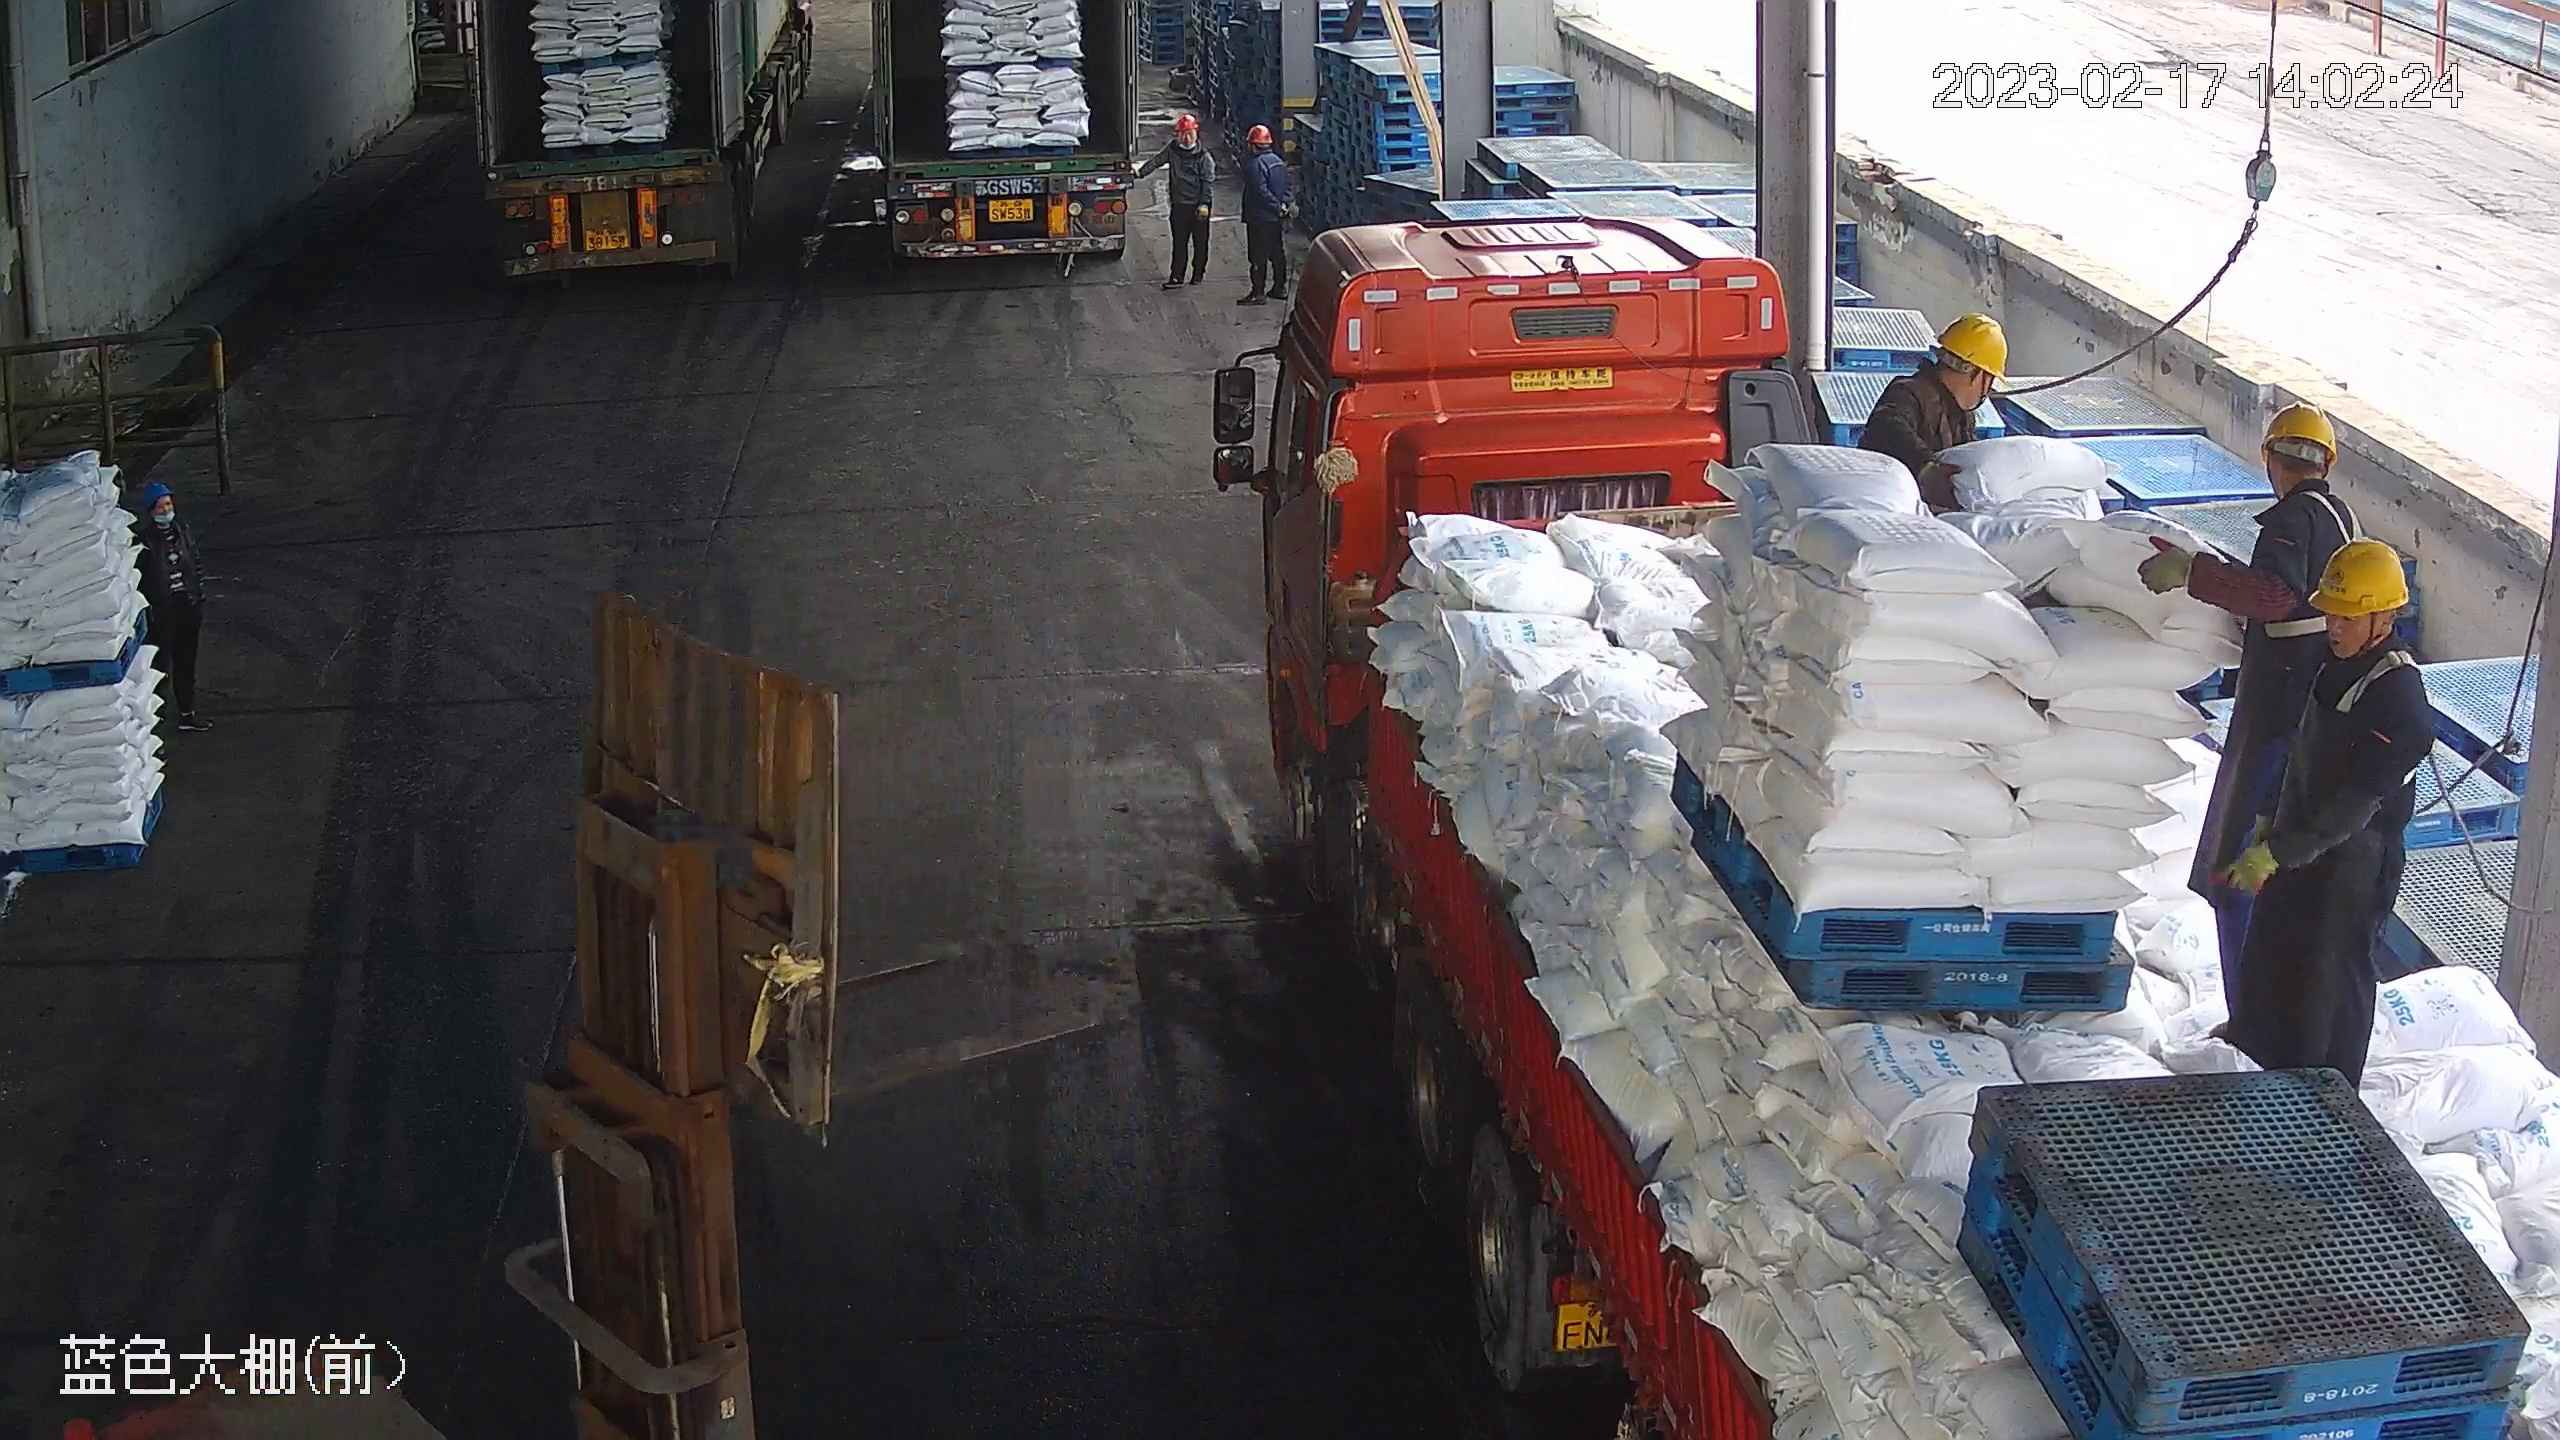belt: (1872, 311, 2007, 444), (2313, 648, 2426, 722), (1886, 374, 1970, 452)
head: (2139, 387, 2384, 1046), (2275, 536, 2435, 737), (2232, 395, 2360, 577), (1872, 310, 2008, 441), (1238, 122, 1289, 179), (1164, 113, 1213, 169)
helmet: (2234, 396, 2358, 575), (2302, 528, 2413, 618), (2254, 396, 2342, 462), (1936, 310, 2010, 378), (1238, 122, 1288, 177), (1164, 112, 1213, 168), (1243, 122, 1271, 147), (1173, 113, 1200, 133)
people: (2140, 400, 2367, 1029), (2230, 536, 2431, 1096), (1152, 113, 1218, 288), (1235, 123, 1292, 307)
truck: (1218, 196, 2560, 1439), (472, 1, 819, 282), (833, 1, 1149, 303)
